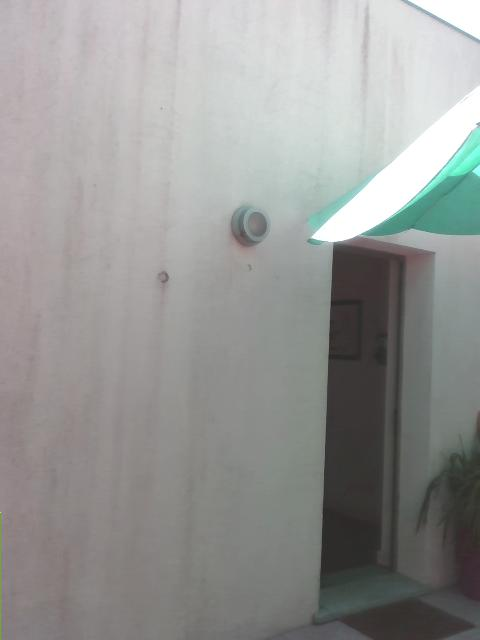open_door: (318, 237, 442, 625)
